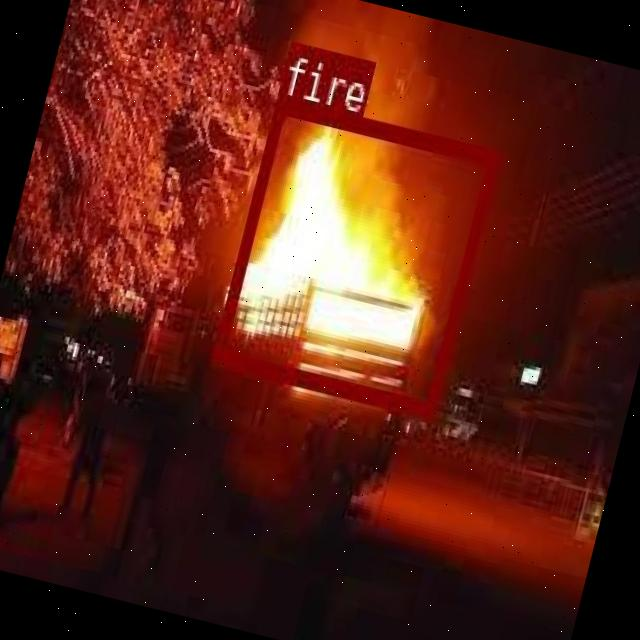fire: (210, 93, 500, 417)
